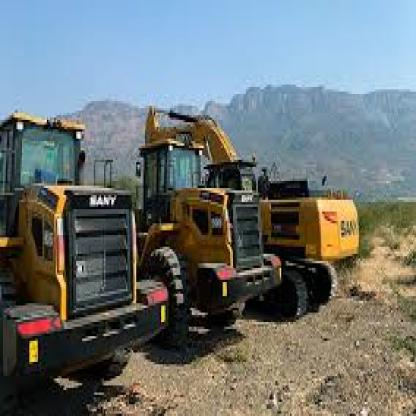dump_truck: (6, 101, 168, 393), (129, 120, 277, 381)
